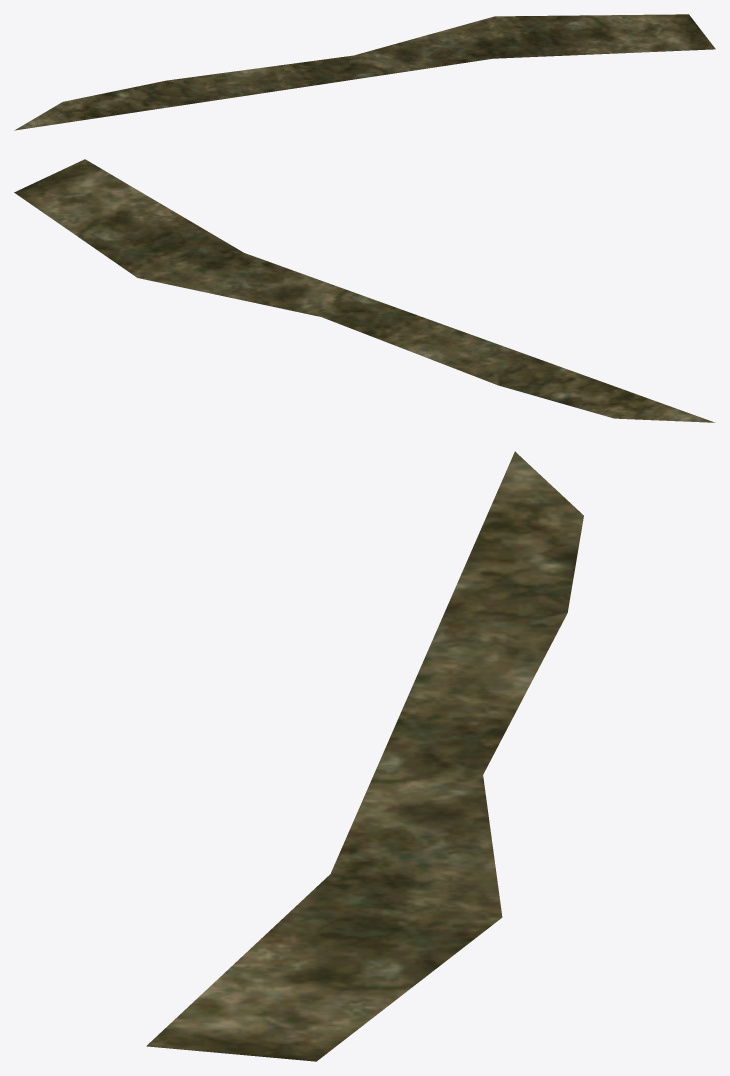
File: CB_NEWPLAYSURFACE_CB_PLAYSURFACE116.fbx
3 renders of one model, top to bottom at view 1: azimuth 30°, elevation 25°; view 2: azimuth 150°, elevation 25°; view 3: azimuth 270°, elevation 25°, orthographic. The views are drawn at different scales.
Parts seen in each view (by area): view 1: CB_NEWPLAYSURFACE_CB_PLAYSURFACE116; view 2: CB_NEWPLAYSURFACE_CB_PLAYSURFACE116; view 3: CB_NEWPLAYSURFACE_CB_PLAYSURFACE116.
Part boxes in pixels (x1=…): CB_NEWPLAYSURFACE_CB_PLAYSURFACE116: x1=14, y1=14, x2=715, y2=130; CB_NEWPLAYSURFACE_CB_PLAYSURFACE116: x1=14, y1=159, x2=715, y2=422; CB_NEWPLAYSURFACE_CB_PLAYSURFACE116: x1=146, y1=451, x2=583, y2=1061.
Bounding box in the file's own units: 226300 × 0.0142 × 68645.
Materials: 1 (1 with a texture image).
